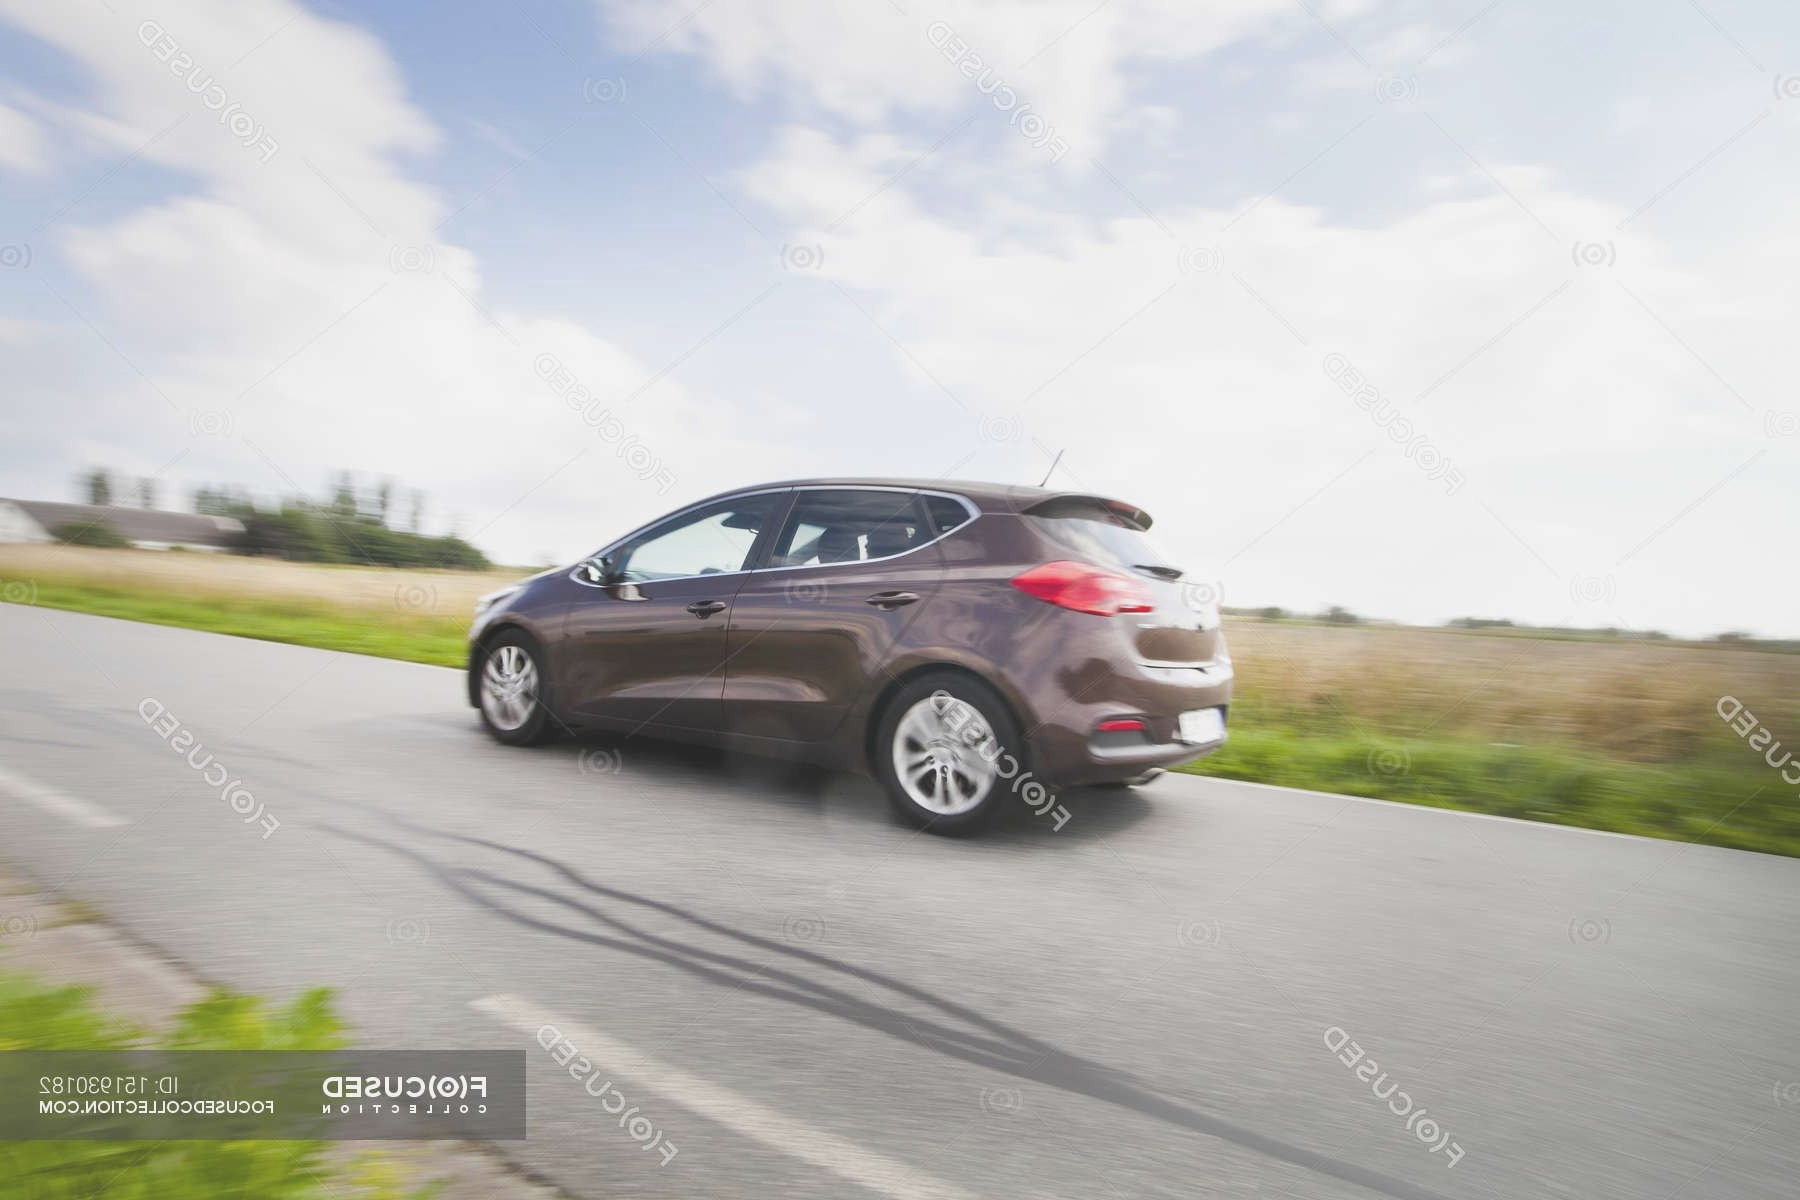car: (382, 423, 1275, 904)
